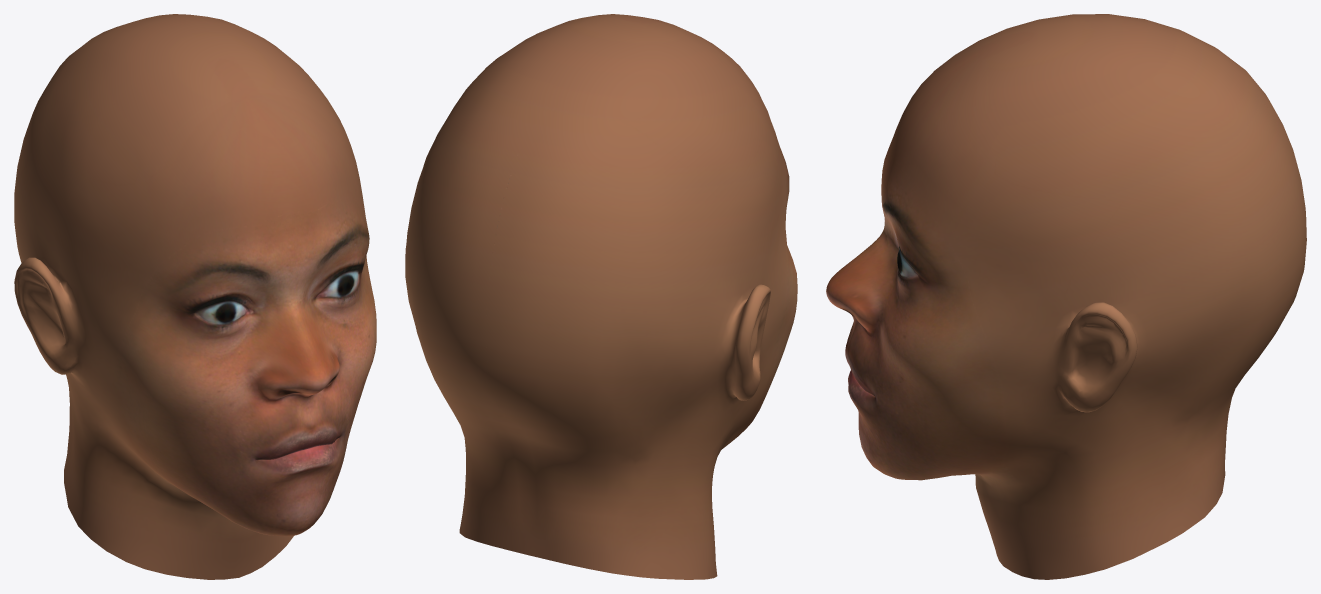
File: v332_obj_ExpressionJawDown.obj
3 views of the same model, side by side, from view 1: azimuth 30°, elevation 25°; view 2: azimuth 150°, elevation 25°; view 3: azimuth 270°, elevation 25° (orthographic). The views are drawn at different scales.
Parts seen in each view (by area): view 1: HeadHires; view 2: HeadHires; view 3: HeadHires.
Part boxes in pixels (x1=…): HeadHires: x1=14, y1=14, x2=376, y2=579; HeadHires: x1=405, y1=14, x2=797, y2=579; HeadHires: x1=826, y1=14, x2=1306, y2=579.
Size of the model in its own units: 187 by 282 by 233.
